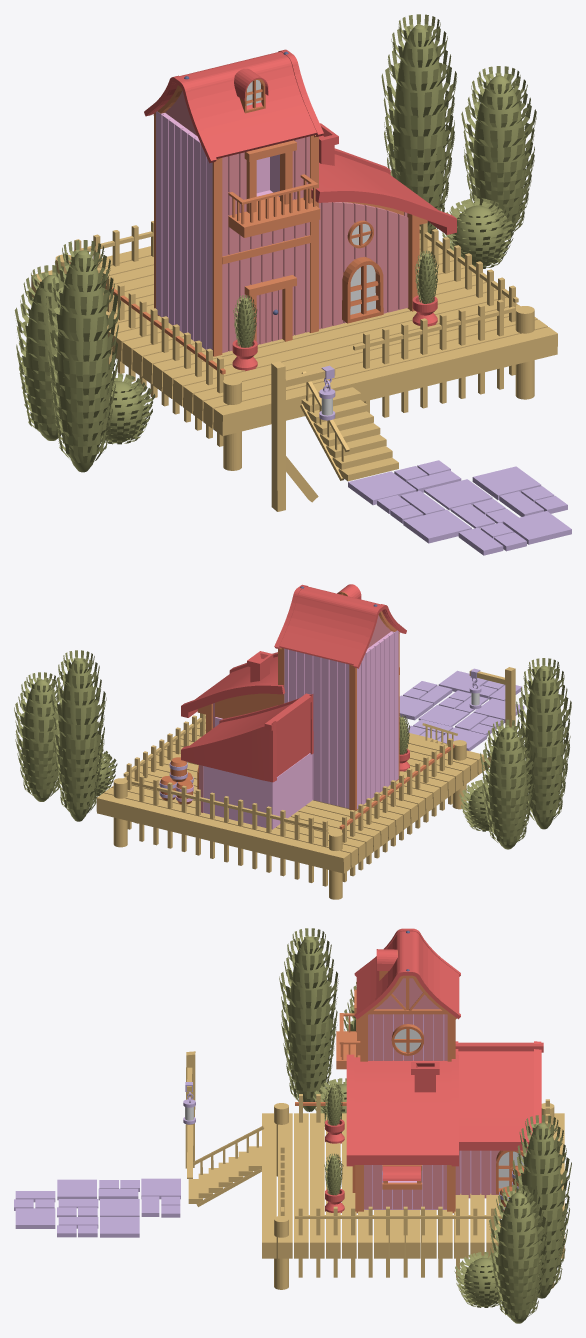
The model's file is pink_house.glb.
The picture shows the model from 3 angles, top to bottom: view 1: azimuth 30°, elevation 25°; view 2: azimuth 150°, elevation 25°; view 3: azimuth 270°, elevation 25°; orthographic projection. The views are drawn at different scales.
Visible parts, largest first — view 1: Cube.001, Cube.002, Cube.003; view 2: Cube.001, Cube.003, Cube.002; view 3: Cube.001, Cube.002, Cube.003.
Boxes of the visible parts, x1,y1,x2,y2 form: Cube.001: [31, 49, 571, 555]; Cube.002: [381, 14, 536, 268]; Cube.003: [14, 240, 155, 472]; Cube.001: [96, 584, 524, 899]; Cube.003: [459, 658, 571, 849]; Cube.002: [14, 650, 117, 821]; Cube.001: [14, 928, 564, 1289]; Cube.002: [454, 1115, 571, 1323]; Cube.003: [279, 928, 356, 1133].
Bounding box in the file's own units: 12.8 × 6.46 × 12.74.
